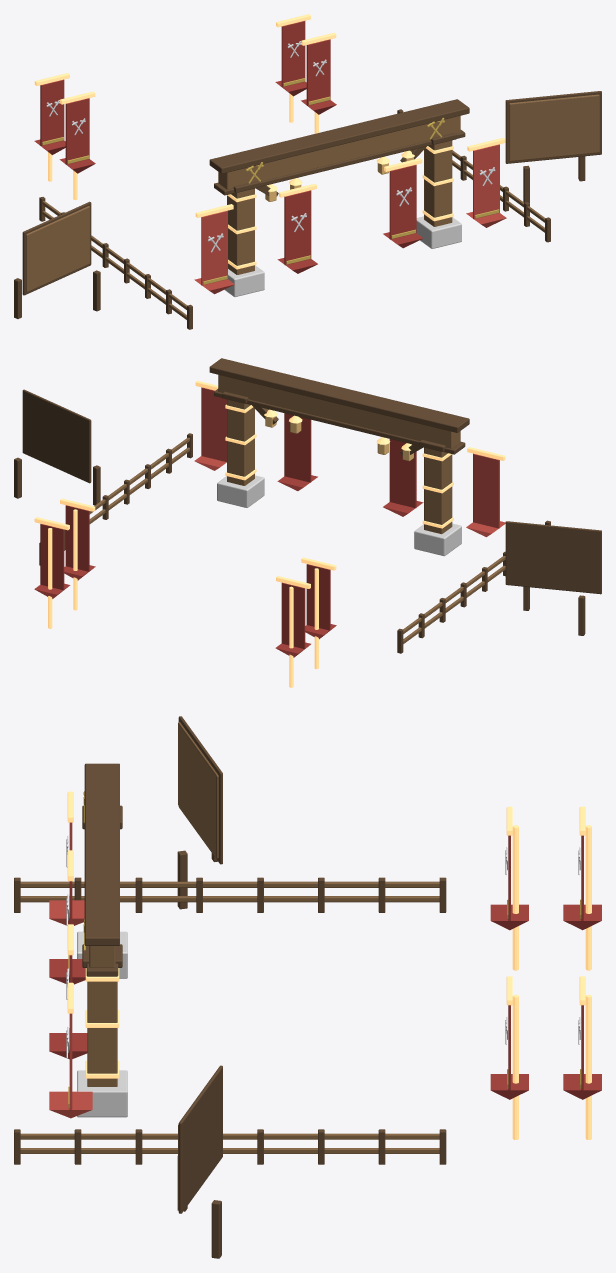
File: 04_Entrada.fbx
The picture shows the model from 3 angles, top to bottom: view 1: azimuth 30°, elevation 25°; view 2: azimuth 150°, elevation 25°; view 3: azimuth 270°, elevation 25°; orthographic projection. The views are drawn at different scales.
Parts seen in each view (by area): view 1: En_PlacaR_Fundo, En_VigaTopo, En_Viga, En_PlacaL_Fundo, En_Poste1, En_Poste-1, En_Band1_0_Pano, En_Band-1_0_Pano, En_Band1_1_Pano, En_Band-1_1_Pano, En_BandE-1_0_Pano, En_BandE1_0_Pano (+9 smaller); view 2: En_PlacaL_Mold, En_VigaTopo, En_PlacaR_Mold, En_Viga, En_Poste-1, En_Poste1, En_Band-1_1_Pano, En_Band1_1_Pano, En_Band1_0_Pano, En_Band-1_0_Pano, En_BandE-1_1_Pano, En_BandE1_0_Pano (+13 smaller); view 3: En_VigaTopo, En_PlacaR_Mold, En_PlacaL_Fundo, En_Poste1, En_Cerca-1_T1, En_Cerca1_T1, En_Cerca-1_T0, En_Cerca1_T0, En_BasePedra1, En_Band1_1_Ponta, En_MastroE1_1, En_MastroE-1_0 (+10 smaller).
Part boxes in pixels (x1,y1,x2,y2): En_PlacaR_Fundo: [509, 94, 599, 161]; En_VigaTopo: [209, 99, 469, 173]; En_Viga: [218, 115, 460, 189]; En_PlacaL_Fundo: [26, 206, 89, 292]; En_Poste1: [424, 140, 452, 226]; En_Poste-1: [227, 188, 254, 274]; En_Band1_0_Pano: [389, 165, 416, 239]; En_Band-1_0_Pano: [284, 190, 311, 265]; En_Band1_1_Pano: [473, 144, 499, 219]; En_Band-1_1_Pano: [201, 210, 227, 285]; En_BandE-1_0_Pano: [65, 98, 89, 164]; En_BandE1_0_Pano: [306, 39, 330, 105]; En_PlacaL_Mold: [505, 521, 601, 594]; En_VigaTopo: [209, 358, 469, 432]; En_PlacaR_Mold: [22, 389, 91, 483]; En_Viga: [218, 375, 460, 448]; En_Poste-1: [424, 447, 452, 534]; En_Poste1: [227, 399, 254, 485]; En_Band-1_1_Pano: [473, 453, 499, 528]; En_Band1_1_Pano: [201, 387, 226, 461]; En_Band1_0_Pano: [284, 413, 311, 482]; En_Band-1_0_Pano: [389, 439, 416, 508]; En_BandE-1_1_Pano: [281, 582, 305, 648]; En_BandE1_0_Pano: [65, 505, 89, 571]; En_VigaTopo: [84, 763, 119, 945]; En_PlacaR_Mold: [178, 1065, 222, 1213]; En_PlacaL_Fundo: [178, 722, 218, 858]; En_Poste1: [87, 981, 117, 1086]; En_Cerca-1_T1: [20, 881, 439, 887]; En_Cerca1_T1: [20, 1133, 439, 1139]; En_Cerca-1_T0: [20, 896, 439, 902]; En_Cerca1_T0: [20, 1148, 439, 1153]; En_BasePedra1: [77, 1070, 127, 1117]; En_Band1_1_Ponta: [49, 1091, 92, 1118]; En_MastroE1_1: [585, 994, 591, 1139]; En_MastroE-1_0: [512, 825, 518, 970].
Size of the model in its own units: 7922 by 1890 by 4836.
